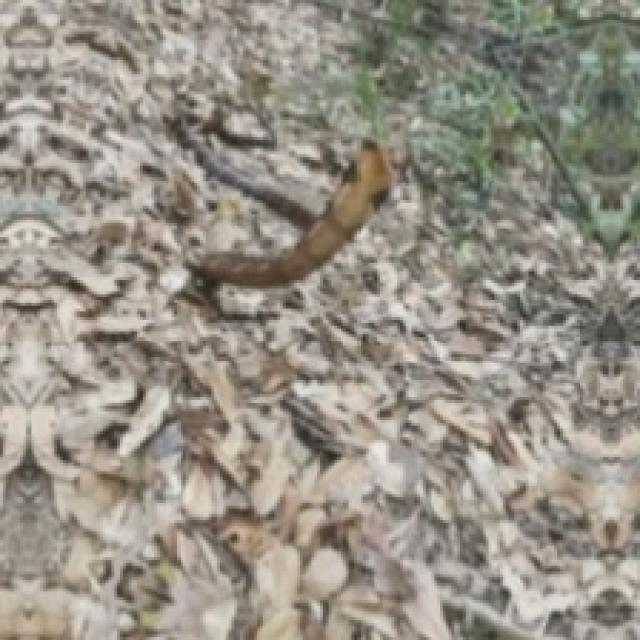king cobra: (189, 143, 389, 286)
